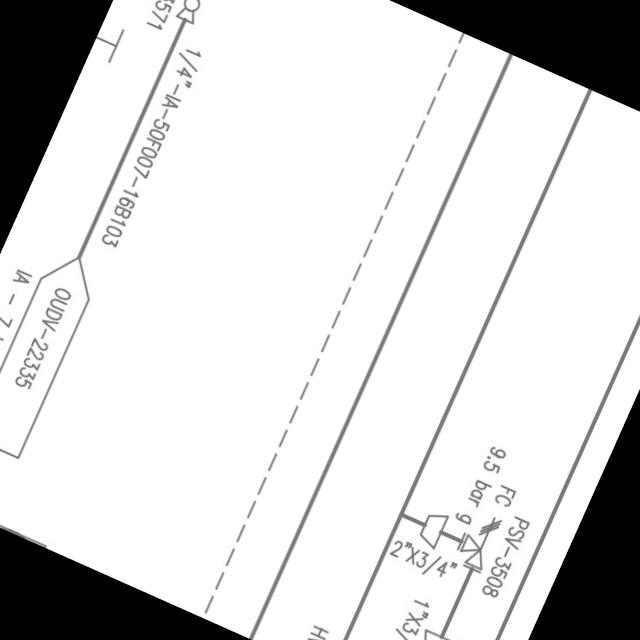BV2: (169, 0, 212, 29)
RPV: (444, 499, 510, 582)
SP: (410, 501, 457, 553), (407, 620, 465, 640)
